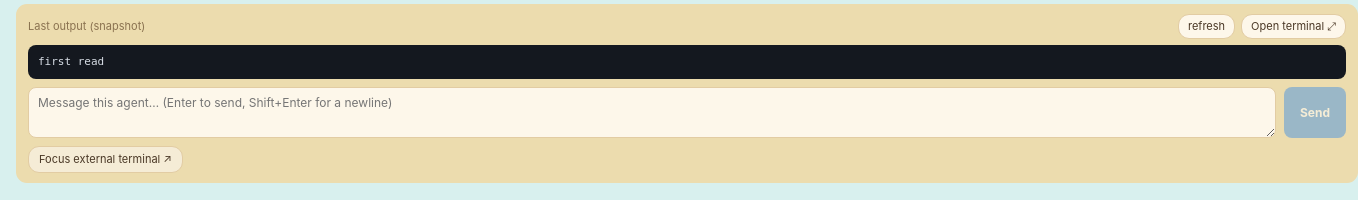
AgentActions › re-fetches only when the refresh button is clicked, never on a timer
The image size is (1358, 200).
Click the button "refresh": (1207, 26) [1178,14,1235,39]
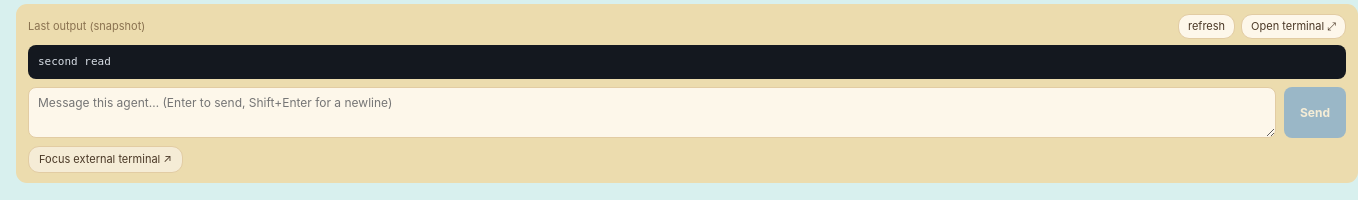
Check: the text "second read" is shown, box [28,45,1346,79]
